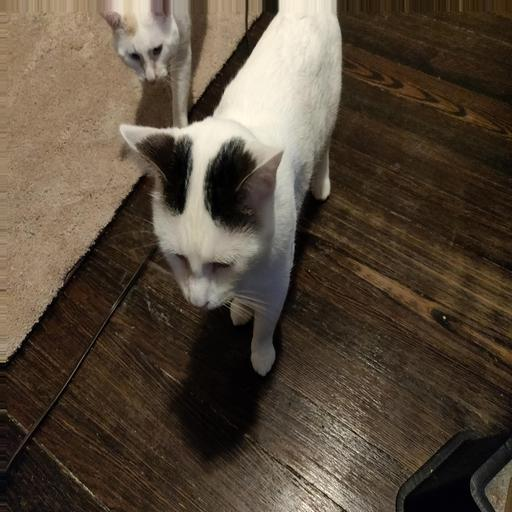cat: (110, 109, 355, 354)
